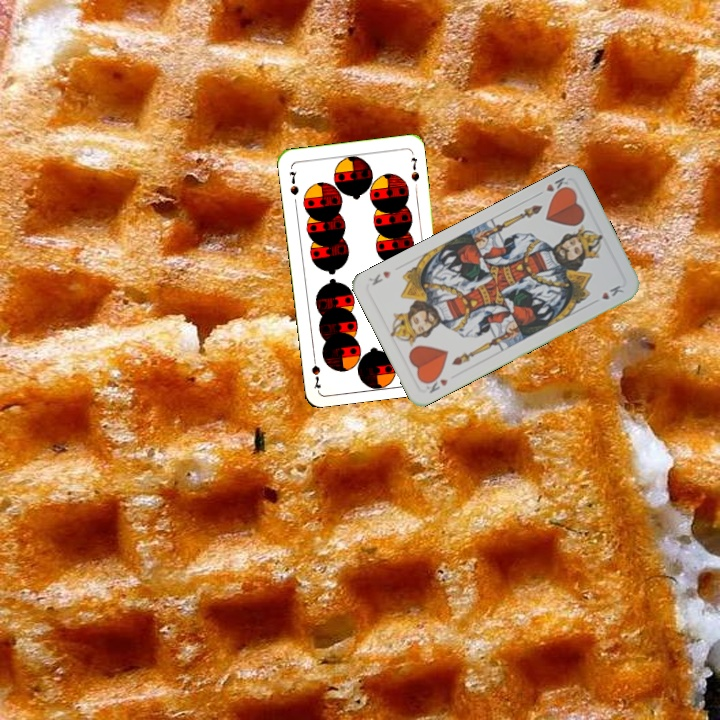HK: (532, 173, 573, 199), (421, 371, 451, 396)
S7: (285, 167, 301, 198)
